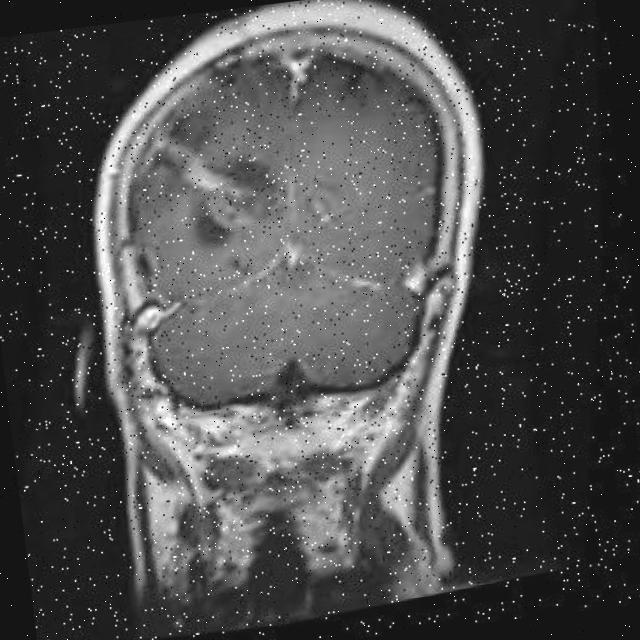LMCI: (148, 126, 411, 313)
